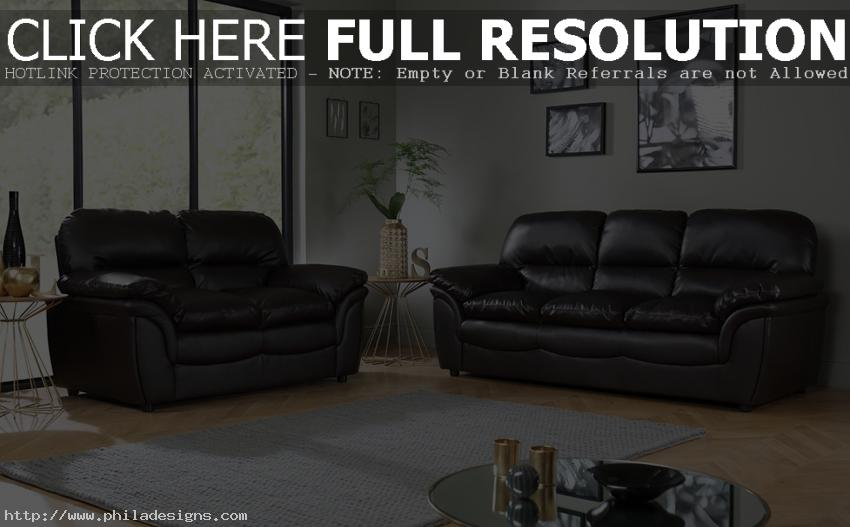chairs: (432, 211, 840, 412), (46, 208, 372, 407)
